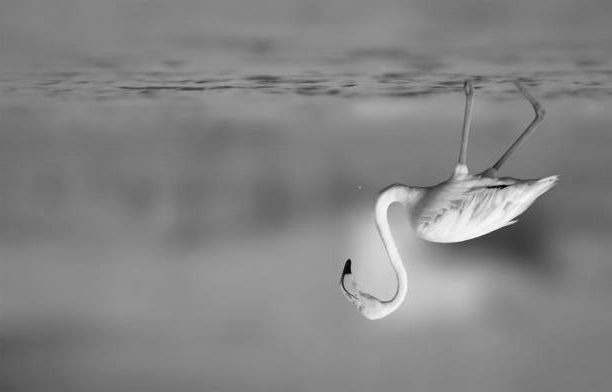Bird: (335, 73, 566, 325)
